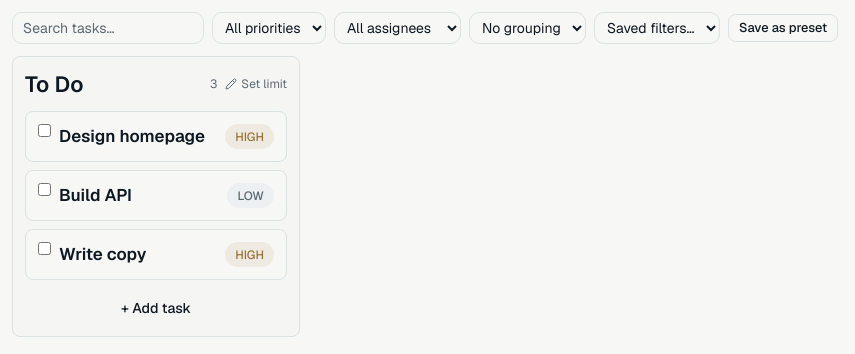
Test case: KanbanBoard filters › filters tasks by assignee, including unassigned
Select "Ada Lovelace" in the dropdown named "Filter by assignee" at (398, 28), box [334,12,461,44]
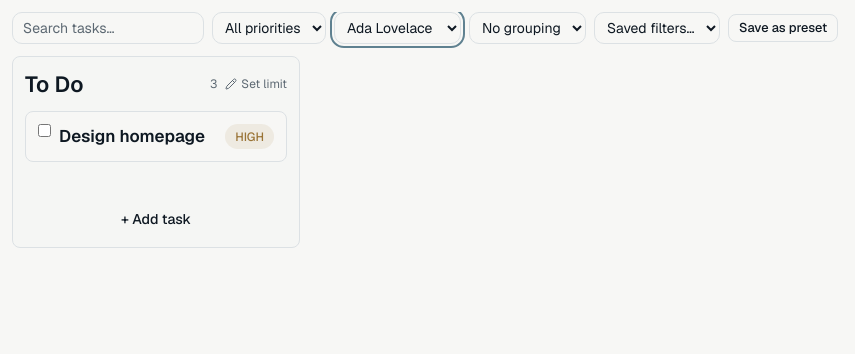
Check: the heading "Design homepage" is shown, box [59,124,205,149]
Check: the heading "Build API" is gone
Check: the heading "Write copy" is gone
Select "Unassigned" in the dropdown named "Filter by assignee" at (398, 28), box [334,12,461,44]
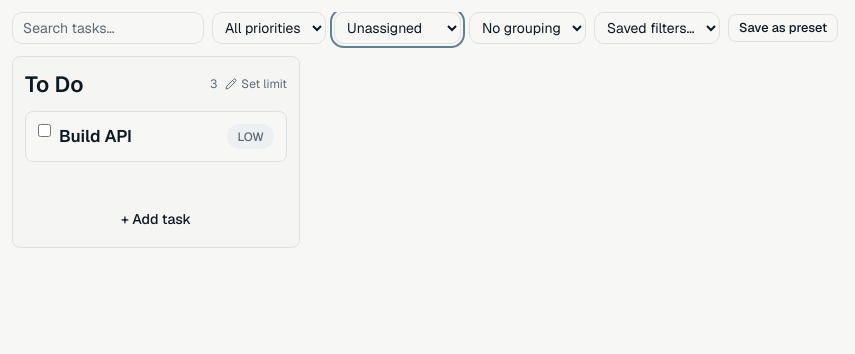
Check: the heading "Build API" is shown, box [59,124,132,149]
Check: the heading "Design homepage" is gone
